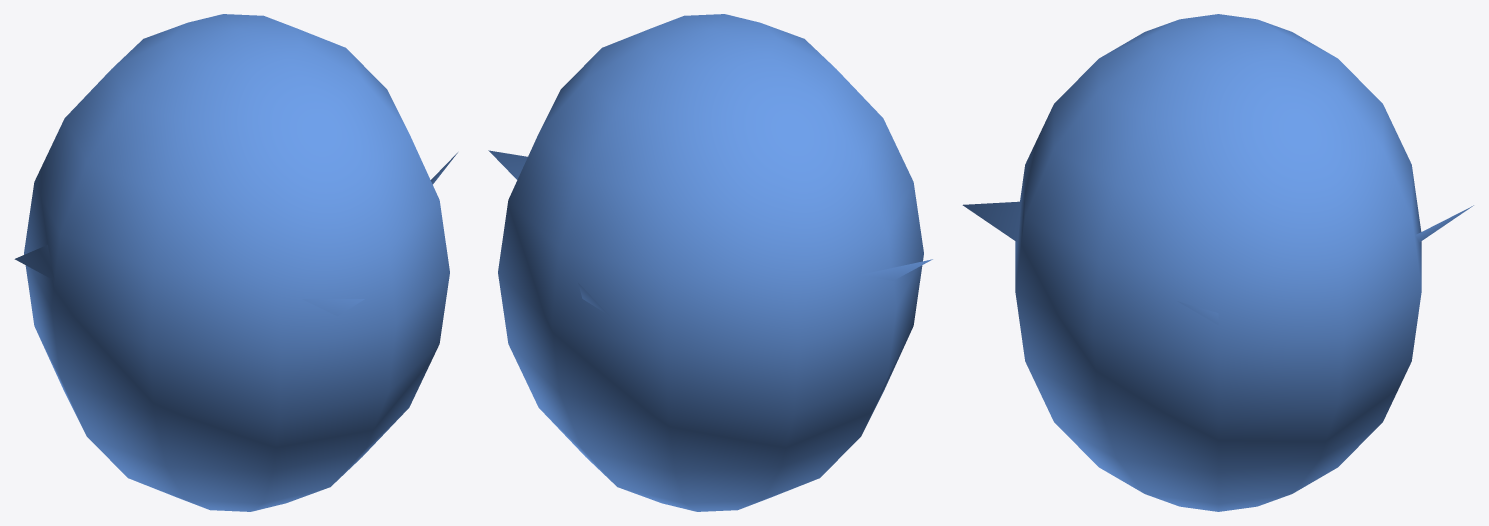
The model's file is Vaporino_stage1.obj.
The picture shows the model from 3 angles, left to right: view 1: azimuth 30°, elevation 25°; view 2: azimuth 150°, elevation 25°; view 3: azimuth 270°, elevation 25°; orthographic projection.
Bounding box in the file's own units: 1.92 × 1.92 × 1.92.
